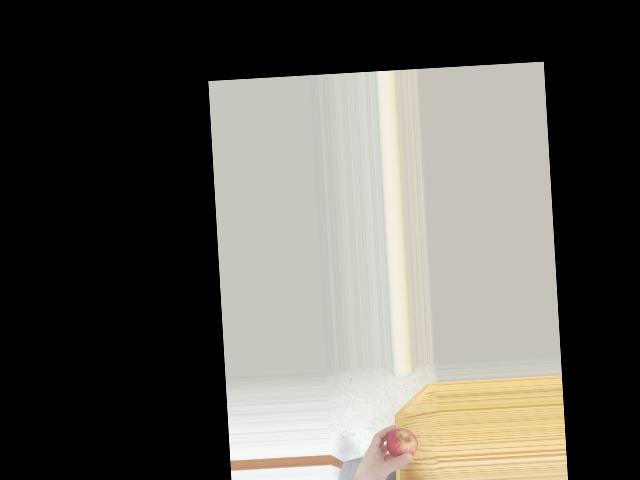apple: (385, 426, 419, 463)
